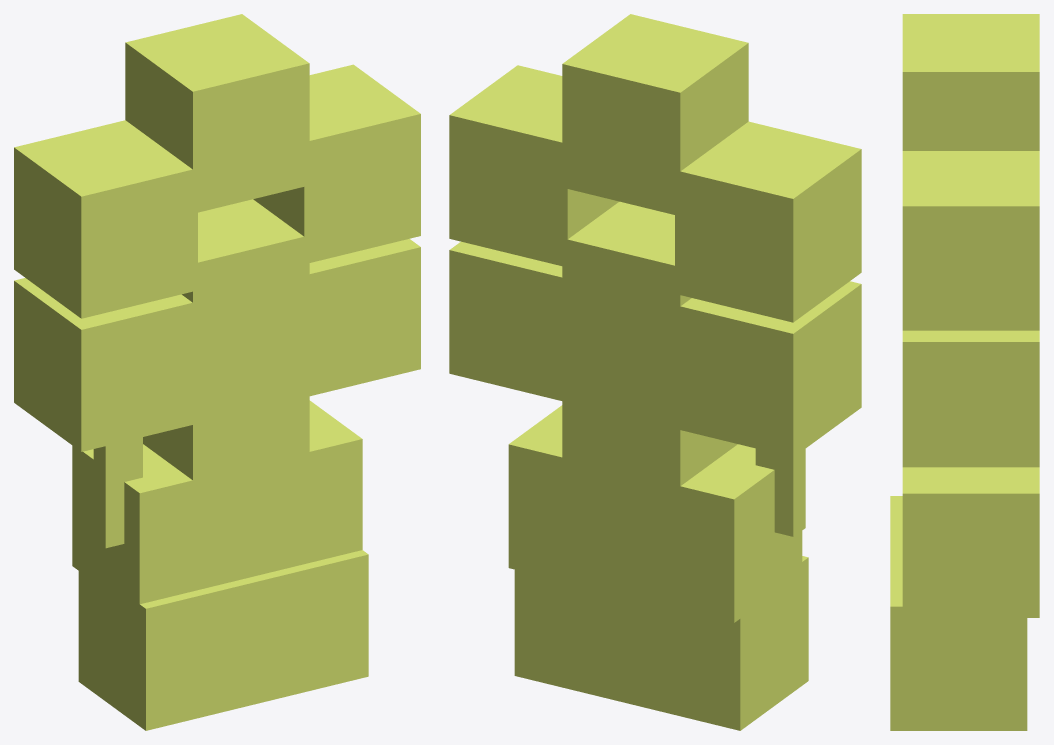
Rendered from player-a.glb.
3 views of the same model, side by side, from view 1: azimuth 30°, elevation 25°; view 2: azimuth 150°, elevation 25°; view 3: azimuth 270°, elevation 25° (orthographic).
Parts seen in each view (by area): view 1: MESH_Calibration_BONE_Arm_L_Upper, MESH_Calibration_BONE_Head, MESH_Calibration_BONE_Arm_L_Lower, MESH_Calibration_BONE_Leg_L_Lower, MESH_Calibration_BONE_Arm_R_Upper, MESH_Calibration_BONE_Leg_L_Upper, MESH_Calibration_BONE_Spine, MESH_Calibration_BONE_Hips, MESH_Calibration_BONE_Arm_R_Lower, MESH_Calibration_BONE_Leg_R_Lower, MESH_Calibration_BONE_Leg_R_Upper, MESH_Calibration_SOCKET_Racket; view 2: MESH_Calibration_BONE_Arm_L_Upper, MESH_Calibration_BONE_Head, MESH_Calibration_BONE_Arm_L_Lower, MESH_Calibration_BONE_Leg_L_Upper, MESH_Calibration_BONE_Arm_R_Upper, MESH_Calibration_BONE_Leg_L_Lower, MESH_Calibration_BONE_Spine, MESH_Calibration_BONE_Arm_R_Lower, MESH_Calibration_BONE_Leg_R_Upper, MESH_Calibration_BONE_Hips, MESH_Calibration_BONE_Leg_R_Lower, MESH_Calibration_SOCKET_Racket; view 3: MESH_Calibration_BONE_Arm_R_Upper, MESH_Calibration_BONE_Leg_R_Upper, MESH_Calibration_BONE_Head, MESH_Calibration_BONE_Arm_R_Lower, MESH_Calibration_BONE_Leg_R_Lower, MESH_Calibration_BONE_Leg_L_Lower, MESH_Calibration_BONE_Hips.
Part boxes in pixels (bbox=[...]): MESH_Calibration_BONE_Arm_L_Upper: bbox=[14, 120, 197, 318]; MESH_Calibration_BONE_Head: bbox=[125, 14, 309, 213]; MESH_Calibration_BONE_Arm_L_Lower: bbox=[14, 278, 197, 451]; MESH_Calibration_BONE_Leg_L_Lower: bbox=[78, 560, 262, 730]; MESH_Calibration_BONE_Arm_R_Upper: bbox=[253, 64, 420, 263]; MESH_Calibration_BONE_Leg_L_Upper: bbox=[72, 444, 256, 604]; MESH_Calibration_BONE_Spine: bbox=[182, 199, 309, 379]; MESH_Calibration_BONE_Hips: bbox=[143, 352, 309, 502]; MESH_Calibration_BONE_Arm_R_Lower: bbox=[304, 239, 420, 396]; MESH_Calibration_BONE_Leg_R_Lower: bbox=[252, 550, 368, 704]; MESH_Calibration_BONE_Leg_R_Upper: bbox=[246, 400, 362, 578]; MESH_Calibration_SOCKET_Racket: bbox=[93, 437, 142, 548]; MESH_Calibration_BONE_Arm_L_Upper: bbox=[675, 121, 861, 322]; MESH_Calibration_BONE_Head: bbox=[562, 14, 748, 216]; MESH_Calibration_BONE_Arm_L_Lower: bbox=[675, 281, 861, 457]; MESH_Calibration_BONE_Leg_L_Upper: bbox=[616, 444, 802, 622]; MESH_Calibration_BONE_Arm_R_Upper: bbox=[449, 65, 618, 266]; MESH_Calibration_BONE_Leg_L_Lower: bbox=[622, 556, 808, 730]; MESH_Calibration_BONE_Spine: bbox=[562, 201, 691, 390]; MESH_Calibration_BONE_Arm_R_Lower: bbox=[449, 241, 567, 402]; MESH_Calibration_BONE_Leg_R_Upper: bbox=[508, 405, 624, 594]; MESH_Calibration_BONE_Hips: bbox=[562, 356, 737, 508]; MESH_Calibration_BONE_Leg_R_Lower: bbox=[514, 569, 631, 701]; MESH_Calibration_SOCKET_Racket: bbox=[755, 448, 805, 536]; MESH_Calibration_BONE_Arm_R_Upper: bbox=[902, 151, 1039, 330]; MESH_Calibration_BONE_Leg_R_Upper: bbox=[902, 467, 1039, 617]; MESH_Calibration_BONE_Head: bbox=[902, 14, 1039, 150]; MESH_Calibration_BONE_Arm_R_Lower: bbox=[902, 330, 1039, 466]; MESH_Calibration_BONE_Leg_R_Lower: bbox=[890, 548, 1027, 730]; MESH_Calibration_BONE_Leg_L_Lower: bbox=[890, 496, 902, 548]; MESH_Calibration_BONE_Hips: bbox=[902, 466, 1039, 467].
Size of the model in its own units: 1.28 by 2.24 by 0.48.
